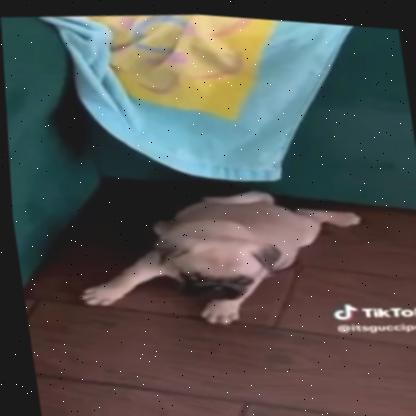dog: (65, 156, 390, 348)
